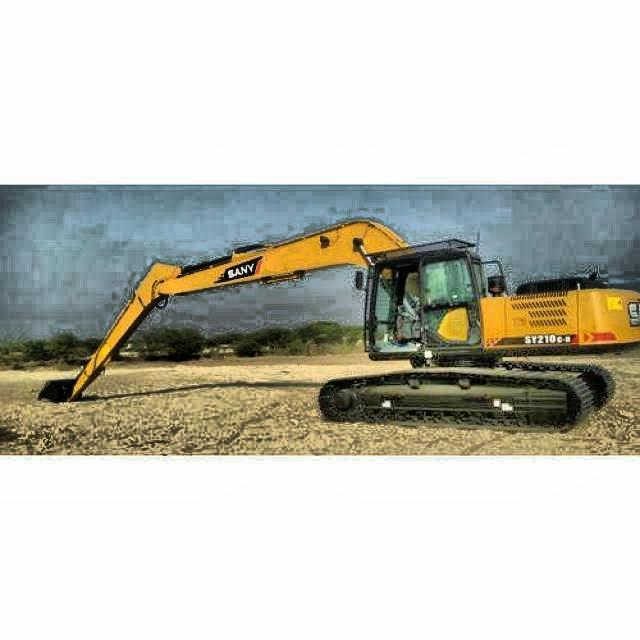excavator: (32, 212, 640, 432)
